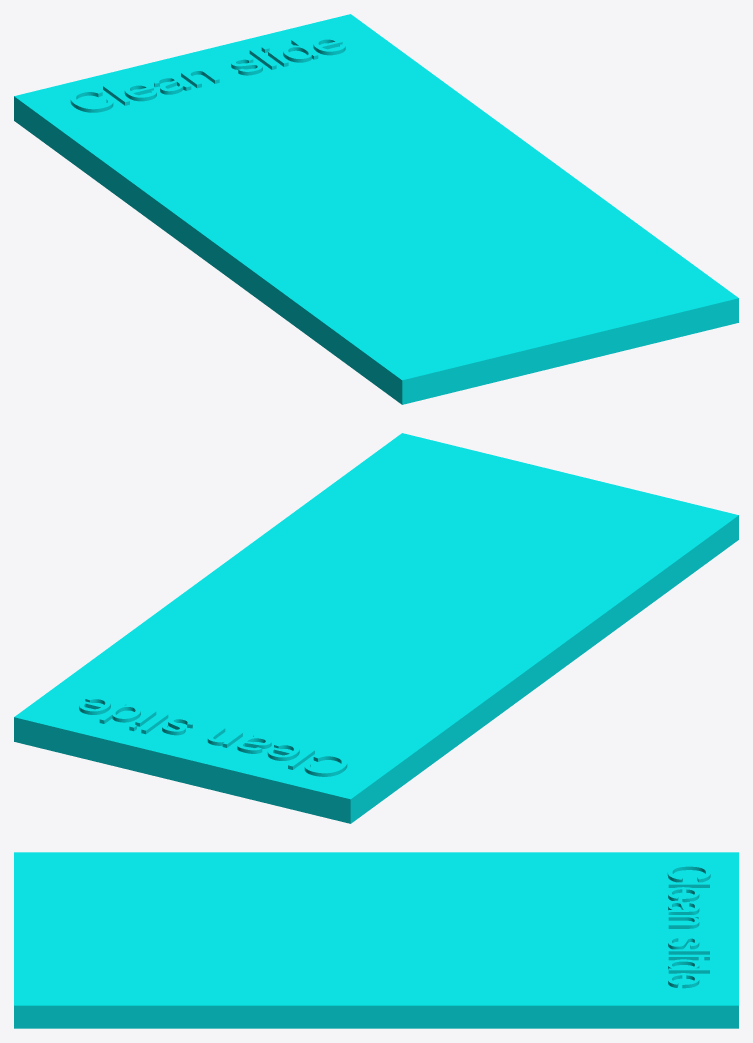
Rendered from Clean slide.FBX.
The picture shows the model from 3 angles, top to bottom: view 1: azimuth 30°, elevation 25°; view 2: azimuth 150°, elevation 25°; view 3: azimuth 270°, elevation 25°; orthographic projection. The views are drawn at different scales.
Parts seen in each view (by area): view 1: Box001, Text001; view 2: Box001, Text001; view 3: Box001, Text001.
Boxes of the visible parts, x1,y1,x2,y2 form: Box001: [14, 14, 738, 404]; Text001: [70, 37, 345, 112]; Box001: [14, 433, 738, 823]; Text001: [79, 697, 347, 776]; Box001: [14, 852, 738, 1028]; Text001: [667, 864, 710, 988].
Bounding box in the file's own units: 7.18 × 0.5745 × 14.33.
